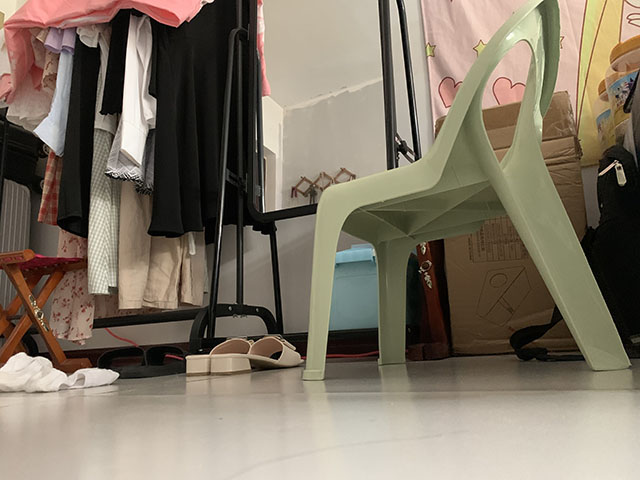slippers: (184, 332, 305, 377), (93, 343, 190, 380)
socks: (1, 351, 121, 394)
stool: (302, 1, 634, 383), (1, 247, 94, 376)
wire: (105, 326, 379, 361)
